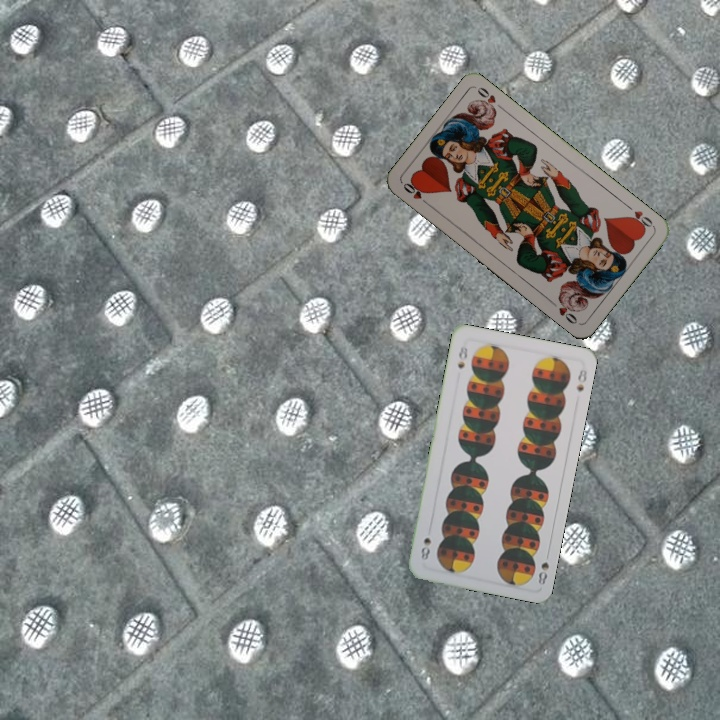HO: (622, 200, 656, 232), (399, 178, 433, 209)
S8: (534, 547, 552, 587), (453, 341, 470, 371)
